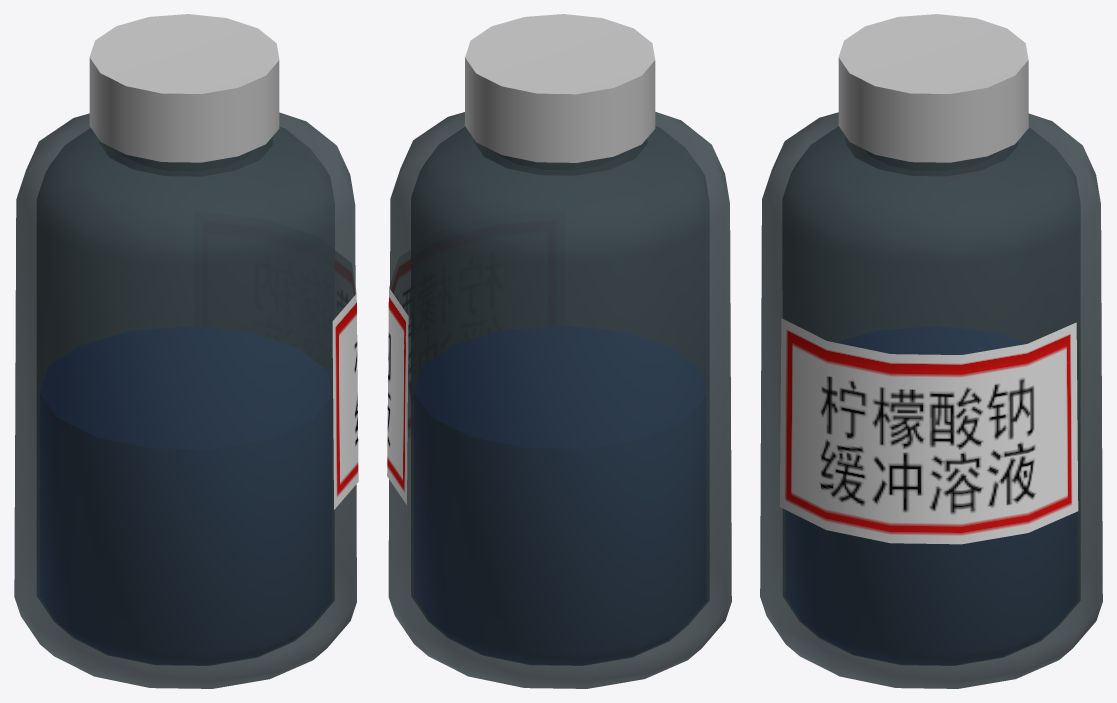
The model's file is SM_柠檬酸钠缓冲溶液.FBX.
3 views of the same model, side by side, from view 1: azimuth 30°, elevation 25°; view 2: azimuth 150°, elevation 25°; view 3: azimuth 270°, elevation 25° (orthographic).
Visible parts, largest first — view 1: SM_柠檬酸钠缓冲溶液_瓶体, SM_柠檬酸钠缓冲溶液_盖子; view 2: SM_柠檬酸钠缓冲溶液_瓶体, SM_柠檬酸钠缓冲溶液_盖子; view 3: SM_柠檬酸钠缓冲溶液_瓶体, SM_柠檬酸钠缓冲溶液_盖子.
Part boxes in pixels (x1,y1,x2,y2): SM_柠檬酸钠缓冲溶液_瓶体: (14, 112, 358, 688); SM_柠檬酸钠缓冲溶液_盖子: (89, 14, 279, 162); SM_柠檬酸钠缓冲溶液_瓶体: (387, 112, 731, 688); SM_柠檬酸钠缓冲溶液_盖子: (465, 14, 655, 162); SM_柠檬酸钠缓冲溶液_瓶体: (760, 112, 1102, 688); SM_柠檬酸钠缓冲溶液_盖子: (838, 14, 1028, 162).
Bounding box in the file's own units: 46.99 × 87.24 × 46.85.
